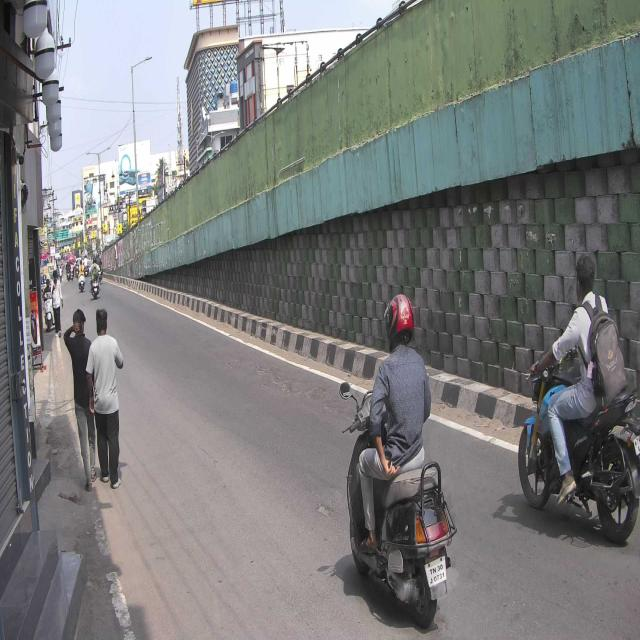single_rider: (340, 292, 456, 629), (516, 250, 640, 547)
